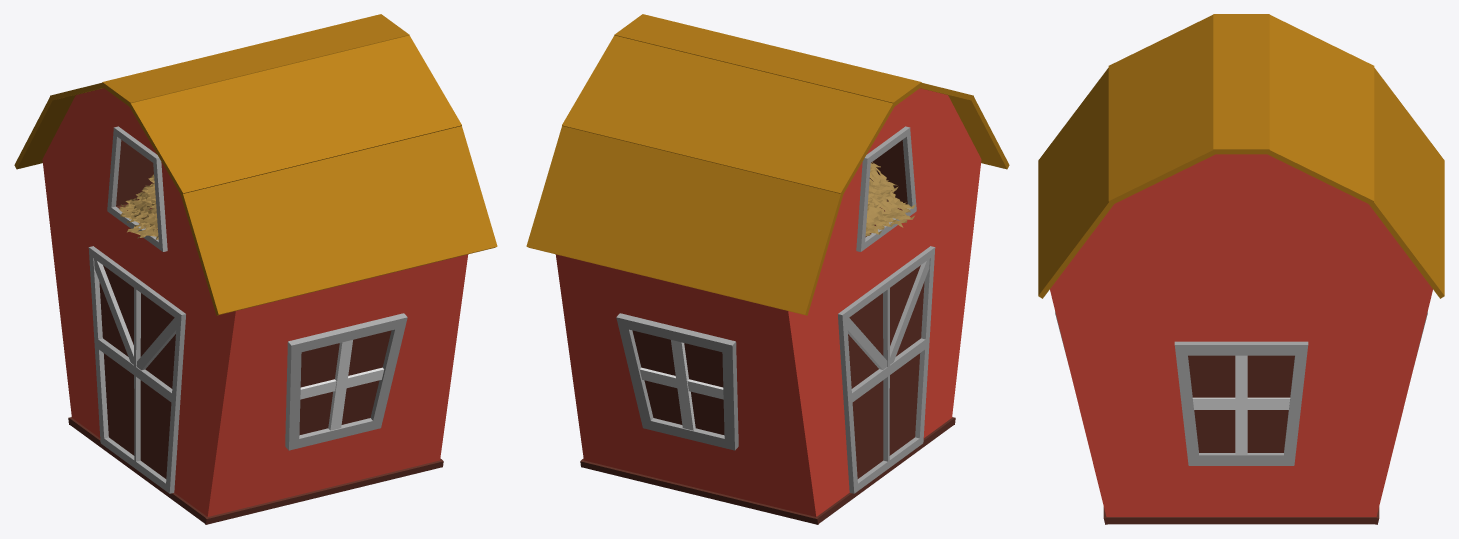
File: Shelter.fbx
The picture shows the model from 3 angles, left to right: view 1: azimuth 30°, elevation 25°; view 2: azimuth 150°, elevation 25°; view 3: azimuth 270°, elevation 25°; orthographic projection.
Visible parts, largest first — view 1: Cube, Cube.007, Cube.006, Cube.019, Cube.003, Cube.005, Cube.018, Cube.001, Cube.017, Cube.002; view 2: Cube, Cube.005, Cube.004, Cube.008, Cube.003, Cube.007, Cube.009, Cube.002, Cube.010, Cube.001; view 3: Cube, Cube.006, Cube.004, Cube.016, Cube.007, Cube.005, Cube.003, Cube.015, Cube.014.
Part boxes in pixels (left/top/right/bottom): Cube: left=42, top=88, right=468, bottom=524; Cube.007: left=181, top=126, right=497, bottom=315; Cube.006: left=129, top=35, right=461, bottom=195; Cube.019: left=285, top=313, right=407, bottom=450; Cube.003: left=102, top=14, right=409, bottom=106; Cube.005: left=14, top=88, right=103, bottom=169; Cube.018: left=328, top=340, right=352, bottom=430; Cube.001: left=94, top=259, right=136, bottom=365; Cube.017: left=300, top=367, right=384, bottom=399; Cube.002: left=137, top=318, right=176, bottom=370; Cube: left=555, top=88, right=981, bottom=524; Cube.005: left=526, top=126, right=843, bottom=315; Cube.004: left=562, top=35, right=894, bottom=194; Cube.008: left=616, top=313, right=738, bottom=450; Cube.003: left=614, top=14, right=921, bottom=105; Cube.007: left=920, top=88, right=1009, bottom=169; Cube.009: left=671, top=340, right=695, bottom=430; Cube.002: left=890, top=259, right=929, bottom=364; Cube.010: left=639, top=367, right=723, bottom=399; Cube.001: left=847, top=318, right=887, bottom=369; Cube: left=1050, top=154, right=1432, bottom=524; Cube.006: left=1108, top=15, right=1216, bottom=205; Cube.004: left=1267, top=15, right=1374, bottom=205; Cube.016: left=1174, top=341, right=1308, bottom=465; Cube.007: left=1038, top=68, right=1113, bottom=298; Cube.005: left=1368, top=68, right=1444, bottom=298; Cube.003: left=1213, top=14, right=1269, bottom=154; Cube.015: left=1235, top=355, right=1247, bottom=454; Cube.014: left=1192, top=397, right=1290, bottom=409.
Bounding box in the file's own units: 2400 × 3187 × 3045.
